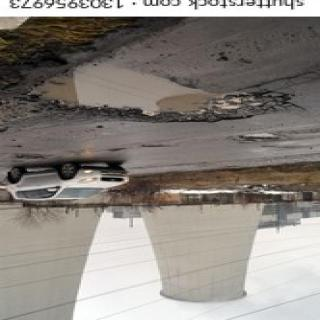pothole: (0, 17, 294, 130), (240, 132, 276, 145)
